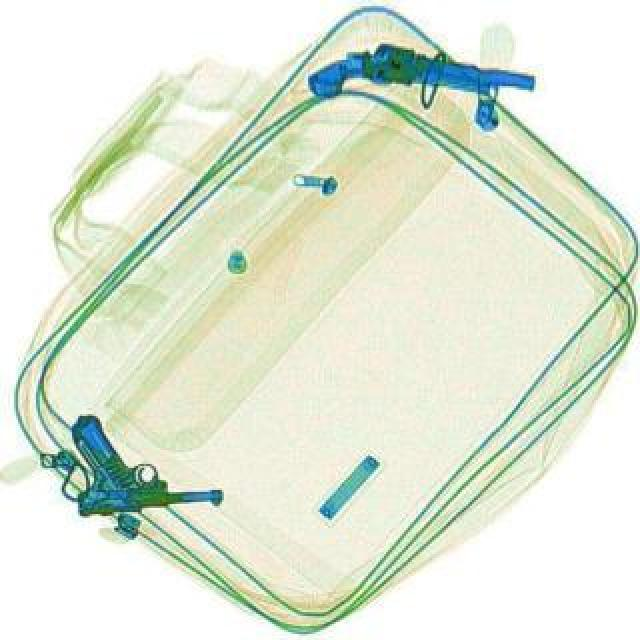gun: (308, 36, 536, 120), (64, 398, 224, 516)
